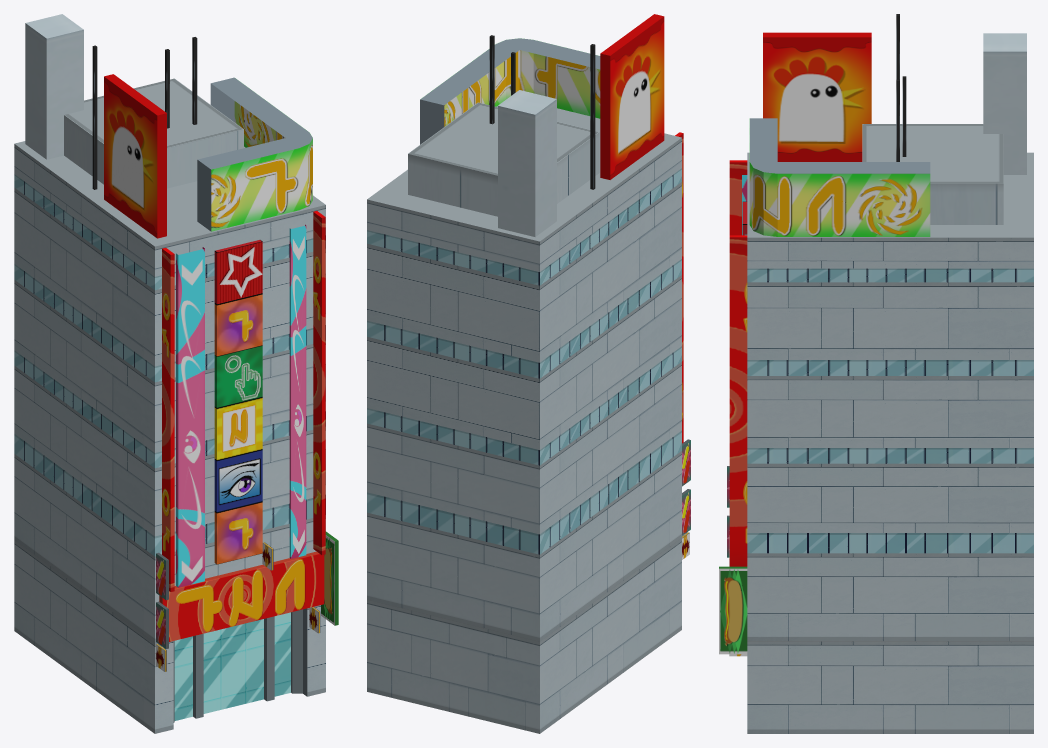
Rendered from japanese_bilboard_building_01.fbx.
3 renders of one model, left to right at view 1: azimuth 30°, elevation 25°; view 2: azimuth 150°, elevation 25°; view 3: azimuth 270°, elevation 25°, orthographic.
Visible parts, largest first — view 1: billboard_building_b01; view 2: billboard_building_b01; view 3: billboard_building_b01.
Part boxes in pixels (<box>): billboard_building_b01: <box>14,14,338,733</box>; billboard_building_b01: <box>367,14,690,733</box>; billboard_building_b01: <box>719,14,1033,733</box>.
Bounding box in the file's own units: 7 × 24.64 × 10.96.
